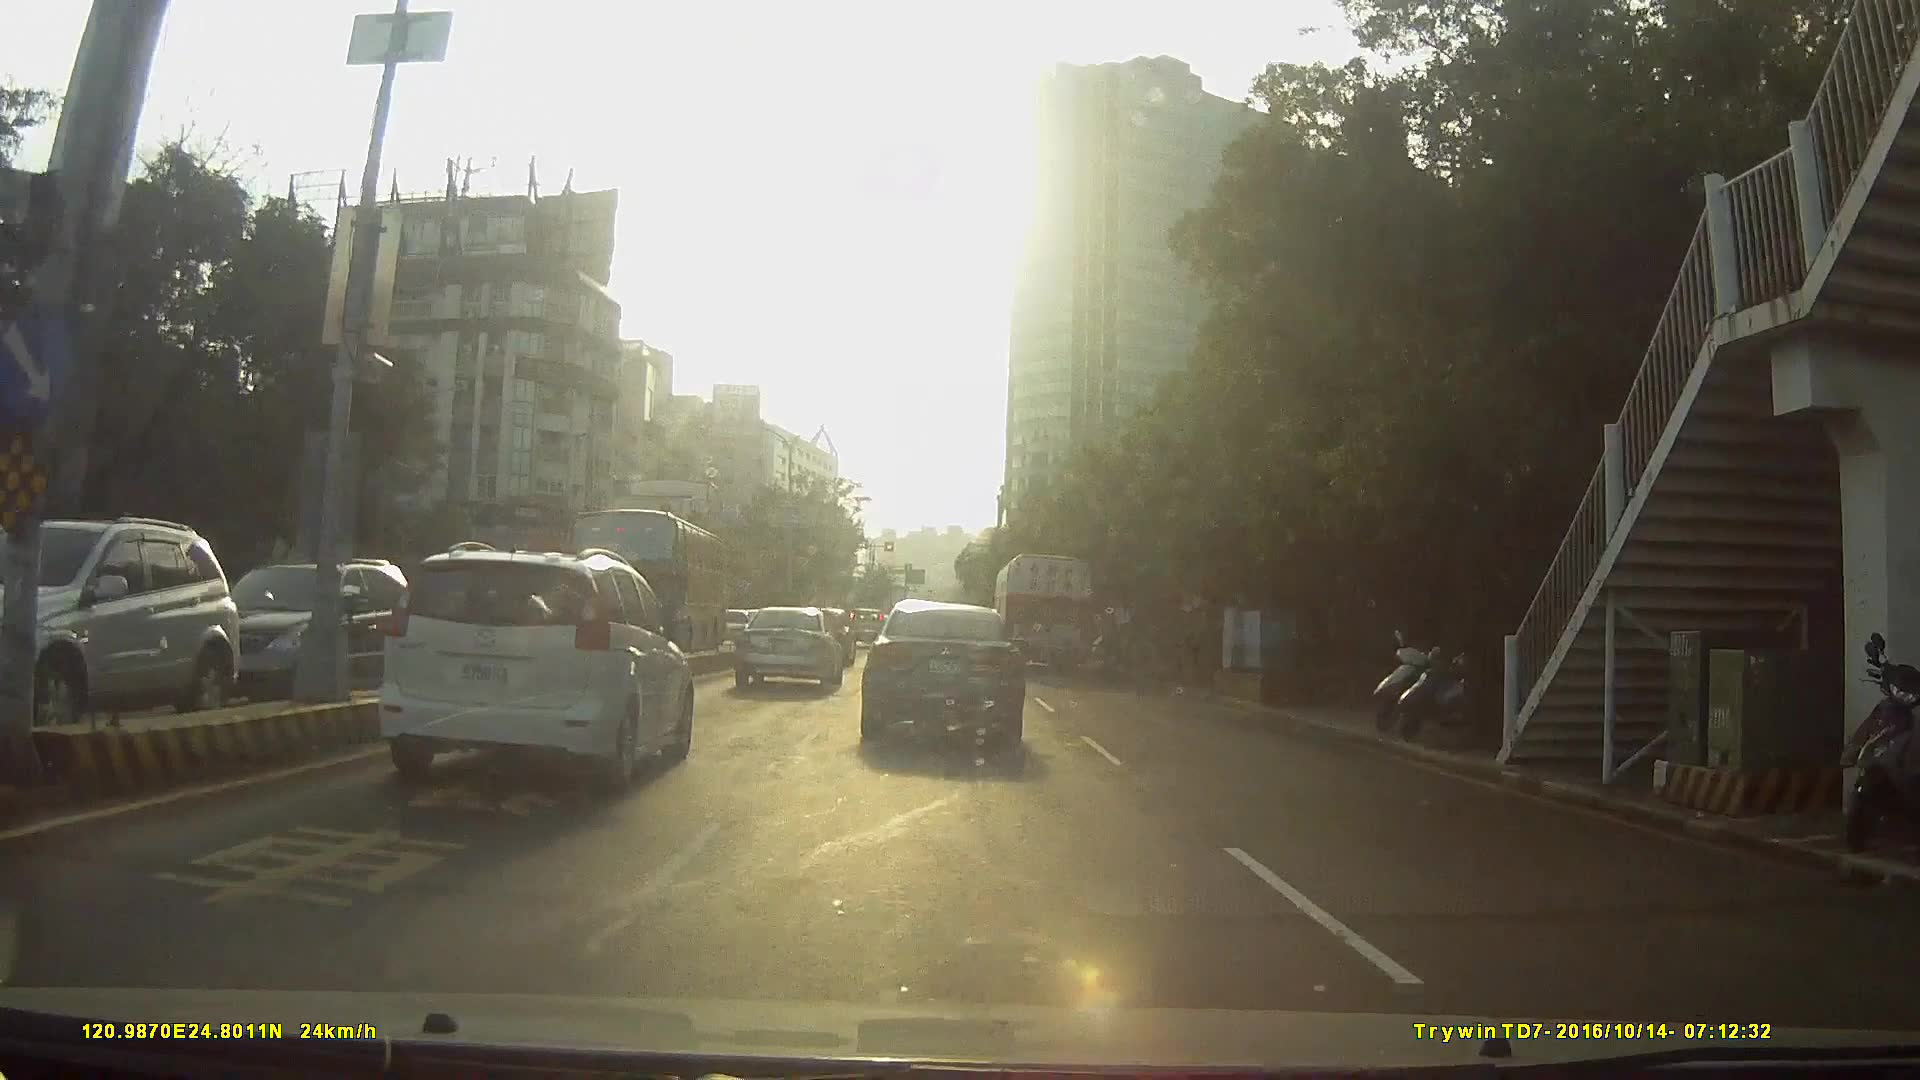vehicle: (251, 556, 684, 868), (378, 543, 694, 796), (1, 516, 276, 742), (179, 559, 422, 713), (858, 595, 1026, 764), (559, 508, 721, 655), (993, 554, 1098, 680), (732, 608, 843, 696), (843, 607, 890, 650)
